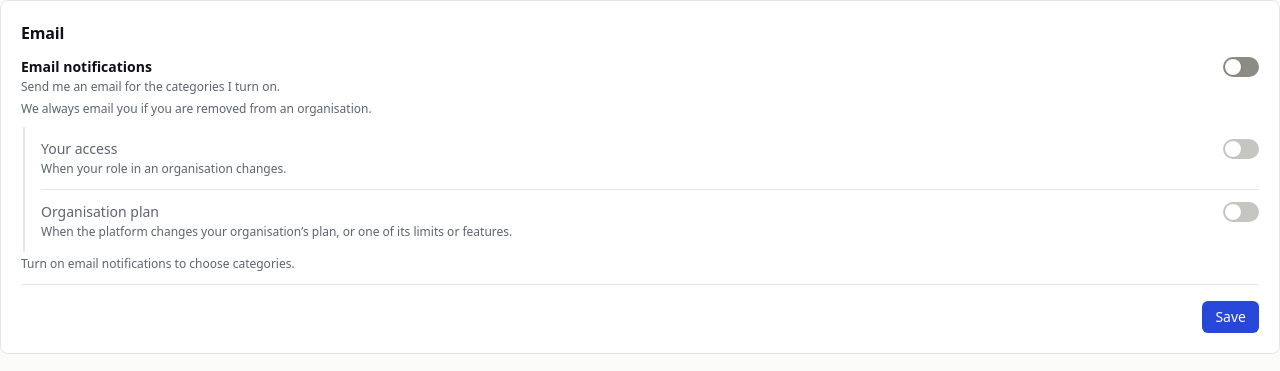
Test: NotificationPreferences › NotificationPreferences_MainOnAgain_BringsEachCategoryBackAsSaved
This screenshot has width=1280, height=371.
Click the 1st switch named "Email notifications" at point(1241, 67), box [1223,57,1259,77]
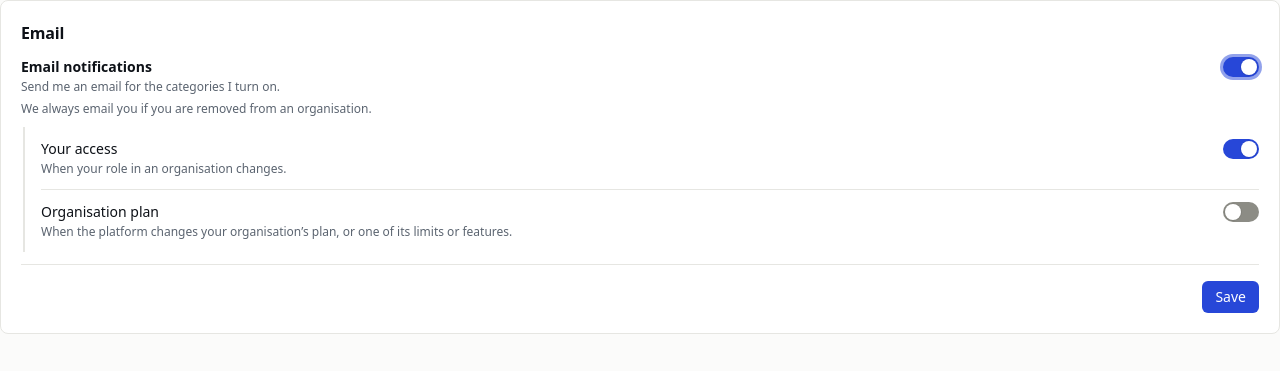
Expected: the switch named "Organisation plan" in the row of "Organisation plan" is not checked, [1223,202,1259,222]
Now the switch named "Your access" in the row of "Your access" is checked, box [1223,139,1259,159]
Now the switch named "Your access" in the row of "Your access" is enabled, box [1223,139,1259,159]
